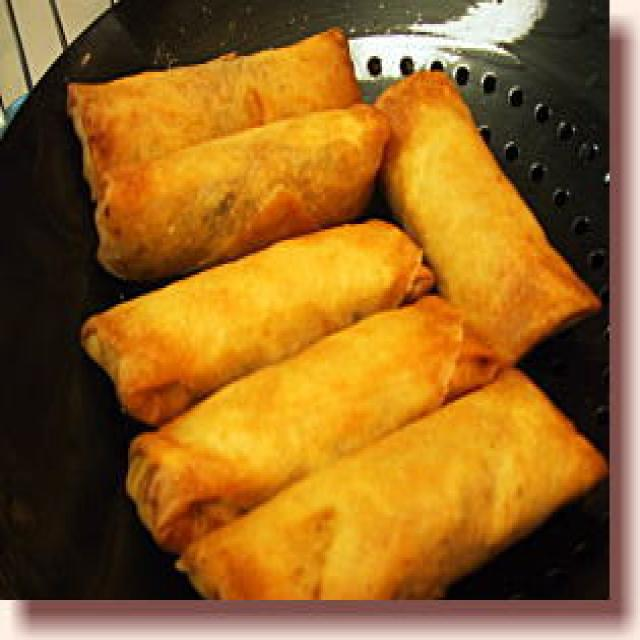鸡蛋料理: (57, 29, 599, 590)
